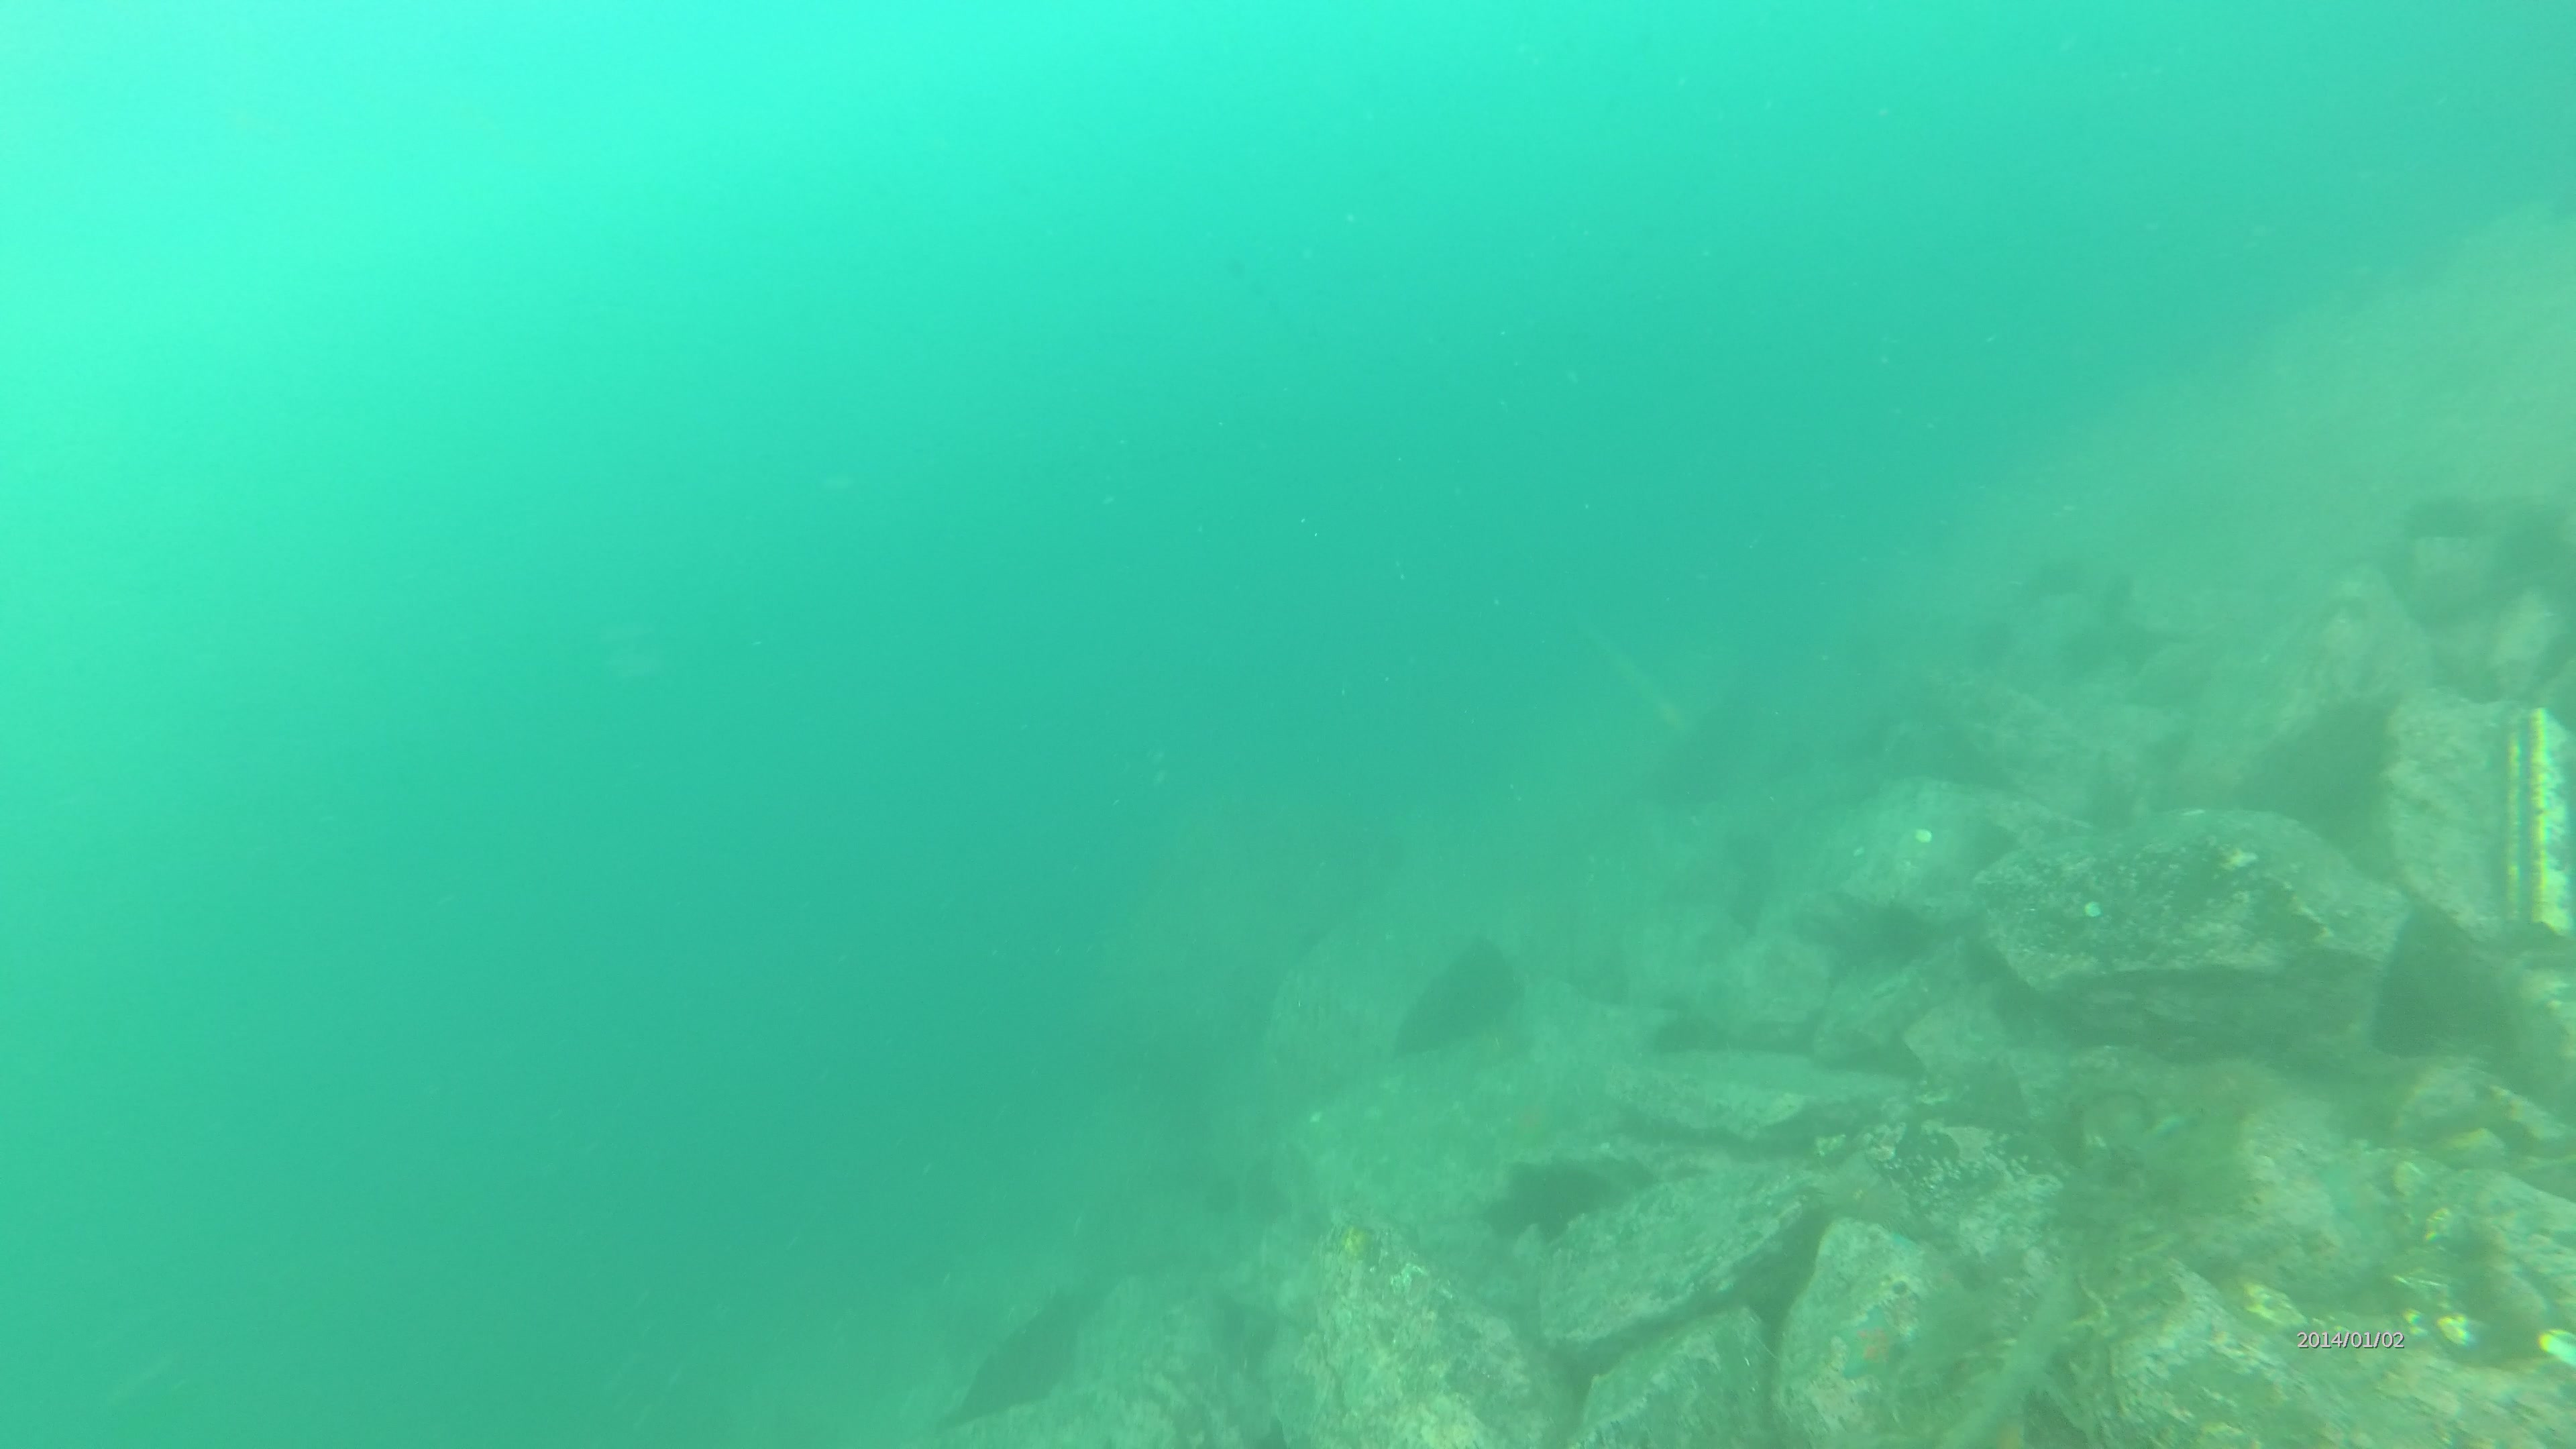holothurian: (1907, 1265, 2104, 1449)
starfish: (2304, 1157, 2392, 1231), (1836, 1313, 1900, 1382)
